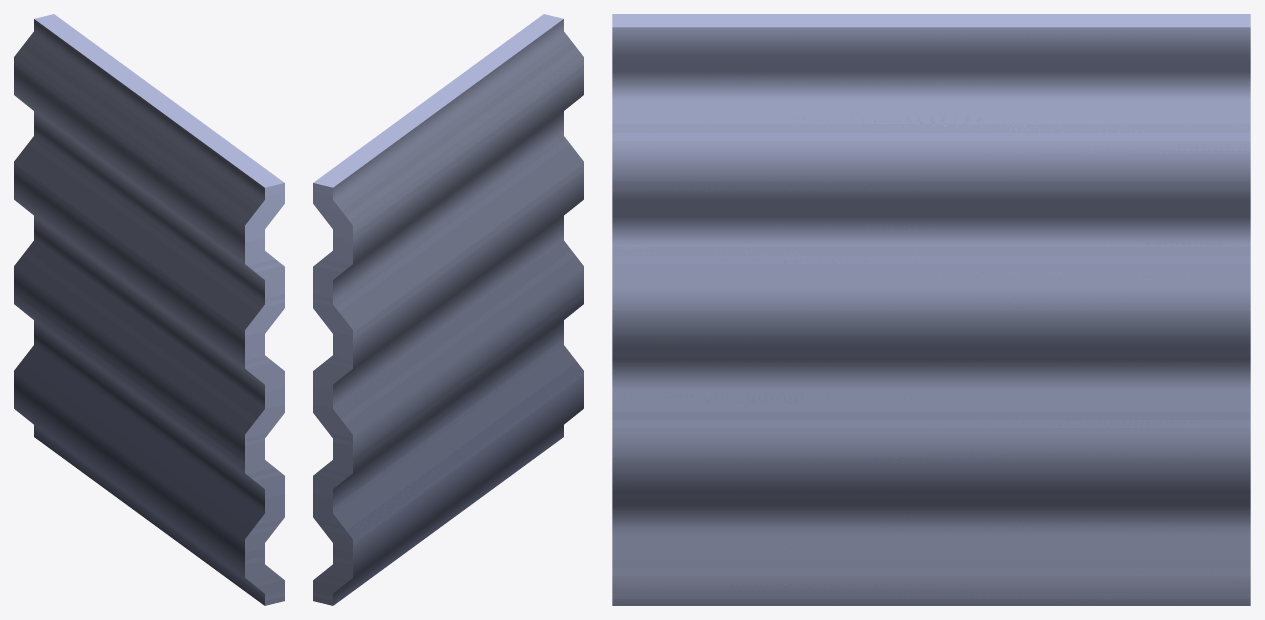
File: plating.glb
The picture shows the model from 3 angles, left to right: view 1: azimuth 30°, elevation 25°; view 2: azimuth 150°, elevation 25°; view 3: azimuth 270°, elevation 25°; orthographic projection. The views are drawn at different scales.
Parts seen in each view (by area): view 1: plating; view 2: plating; view 3: plating.
Part boxes in pixels (left/top/right/bottom): plating: left=14, top=14, right=284, bottom=605; plating: left=313, top=14, right=583, bottom=605; plating: left=612, top=14, right=1250, bottom=605.
Size of the model in its own units: 0.1 by 1 by 1.
1 material, 1 textured.
